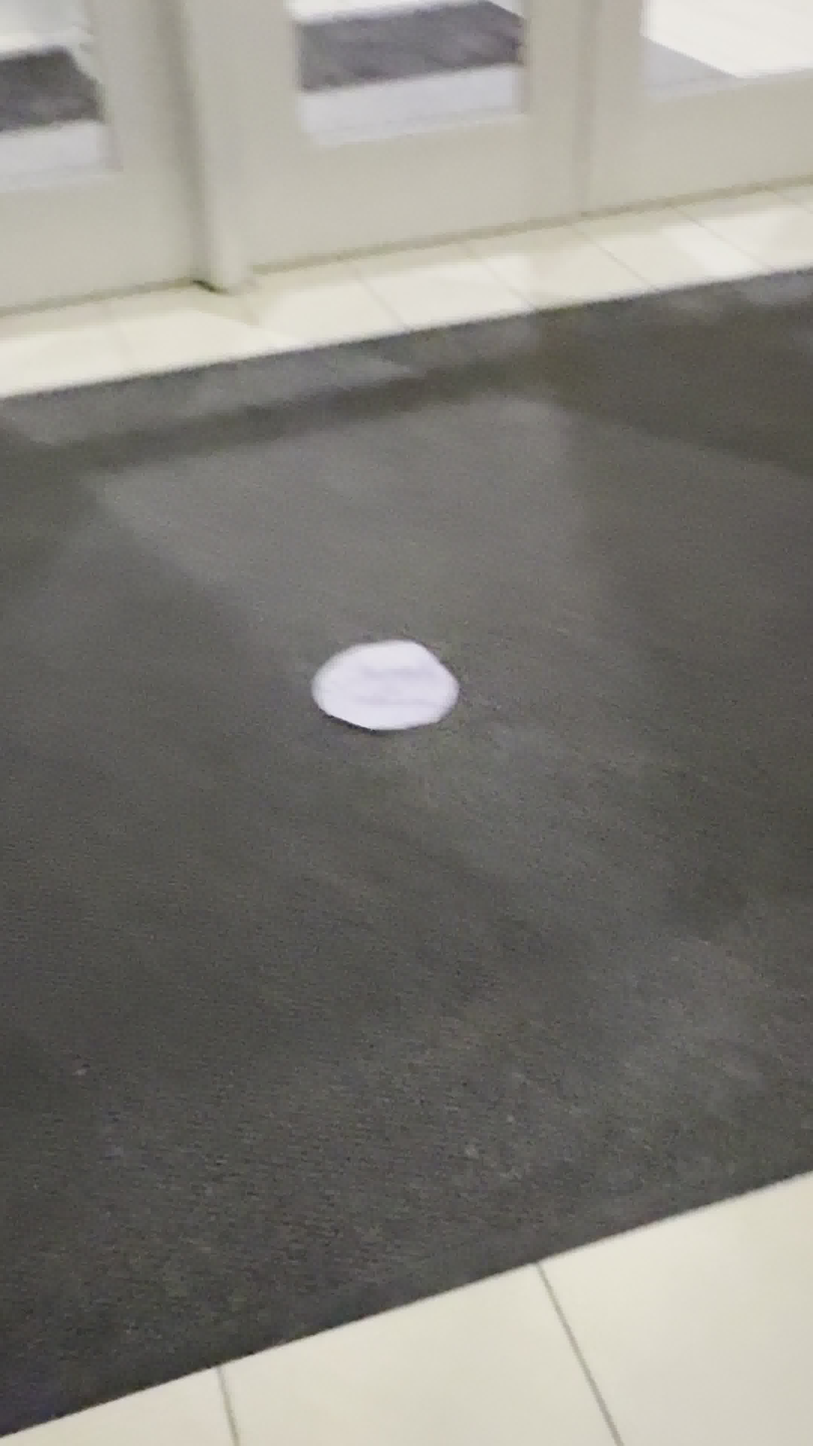Target: (310, 639, 459, 732)
